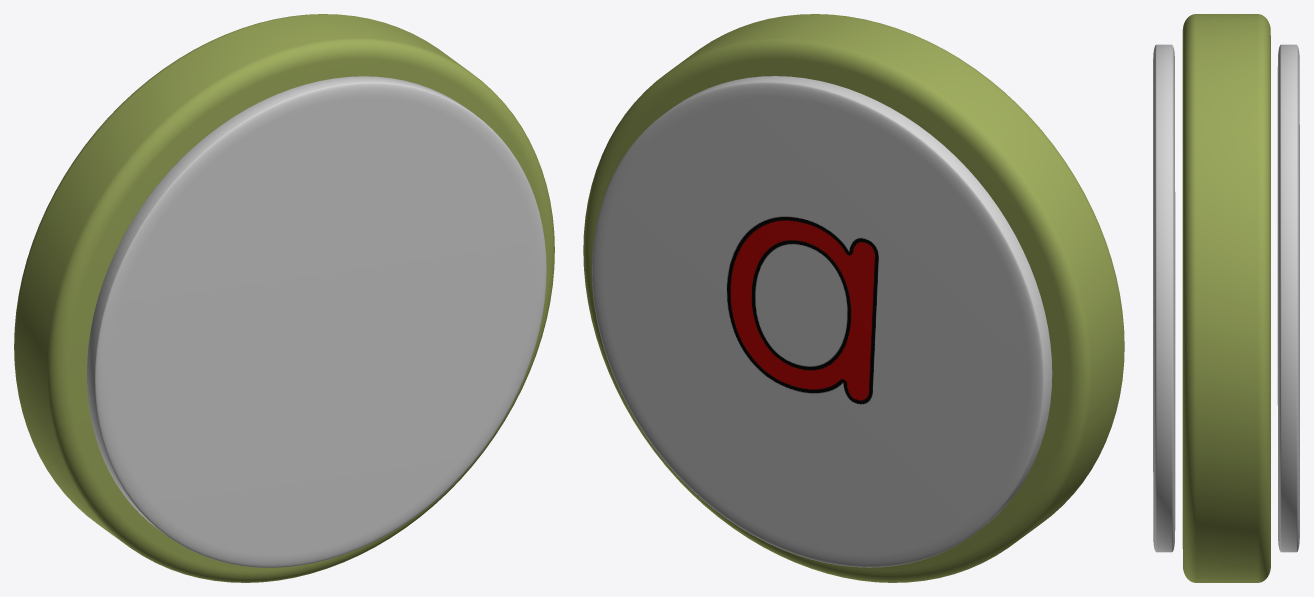
The model's file is apple2.gltf.
3 renders of one model, left to right at view 1: azimuth 30°, elevation 25°; view 2: azimuth 150°, elevation 25°; view 3: azimuth 270°, elevation 25°, orthographic. The views are drawn at different scales.
Parts seen in each view (by area): view 1: Cylinder_2.001, Cylinder.001; view 2: Cylinder_2, Cylinder.001; view 3: Cylinder.001, Cylinder_2, Cylinder_2.001.
Boxes of the visible parts, left/top/right/bottom form: Cylinder_2.001: left=86, top=76, right=546, bottom=567; Cylinder.001: left=14, top=14, right=554, bottom=582; Cylinder_2: left=592, top=76, right=1052, bottom=567; Cylinder.001: left=583, top=14, right=1124, bottom=582; Cylinder.001: left=1182, top=14, right=1270, bottom=582; Cylinder_2: left=1277, top=44, right=1299, bottom=552; Cylinder_2.001: left=1153, top=44, right=1175, bottom=552.
Size of what is drawn, in the model's own units: 2.56 by 2.56 by 0.6603.
Materials: 2 (1 with a texture image).
